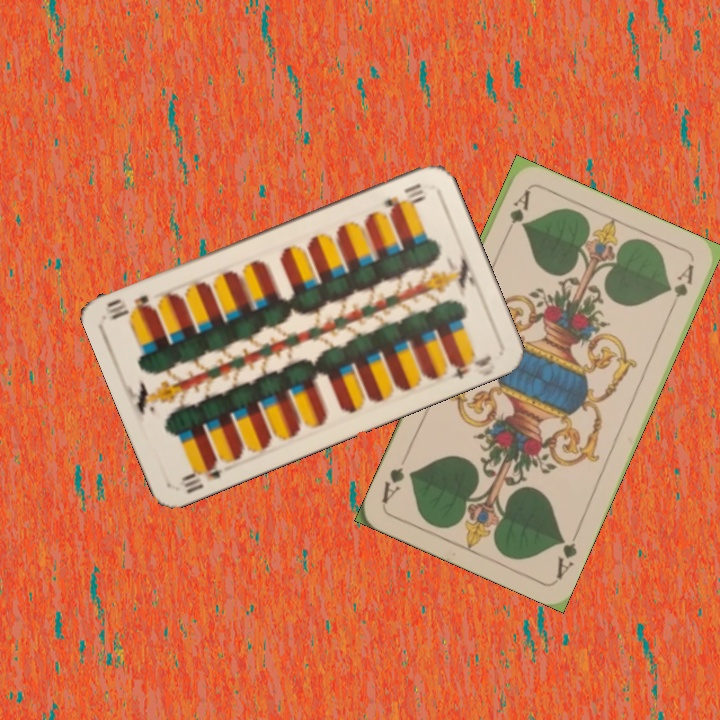E10: (177, 455, 226, 496), (378, 179, 427, 212)
GA: (499, 186, 533, 242), (552, 525, 582, 582)
